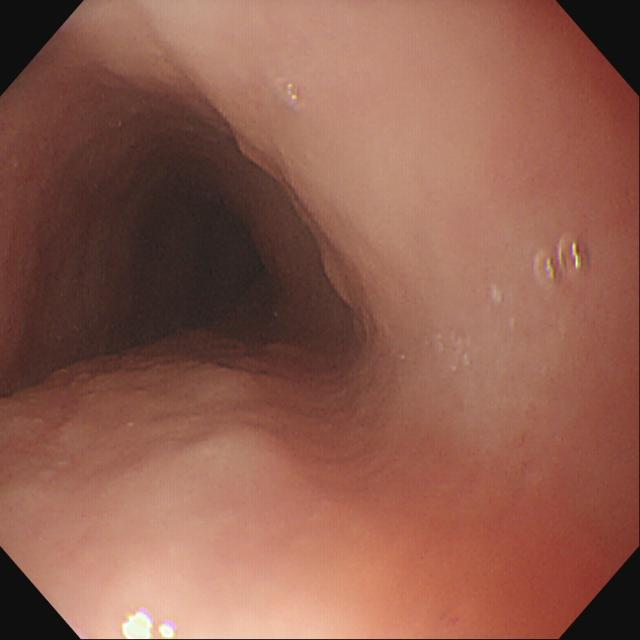E: (97, 151, 274, 354)
T: (534, 233, 592, 286)
U: (121, 610, 180, 640)
